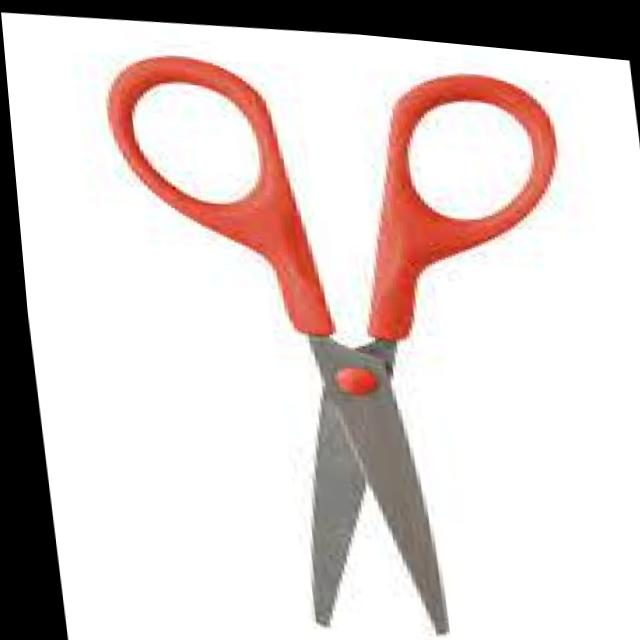scissor: (94, 31, 612, 640)
